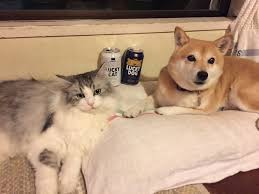cat: (1, 66, 118, 194)
dog: (156, 25, 259, 117)
